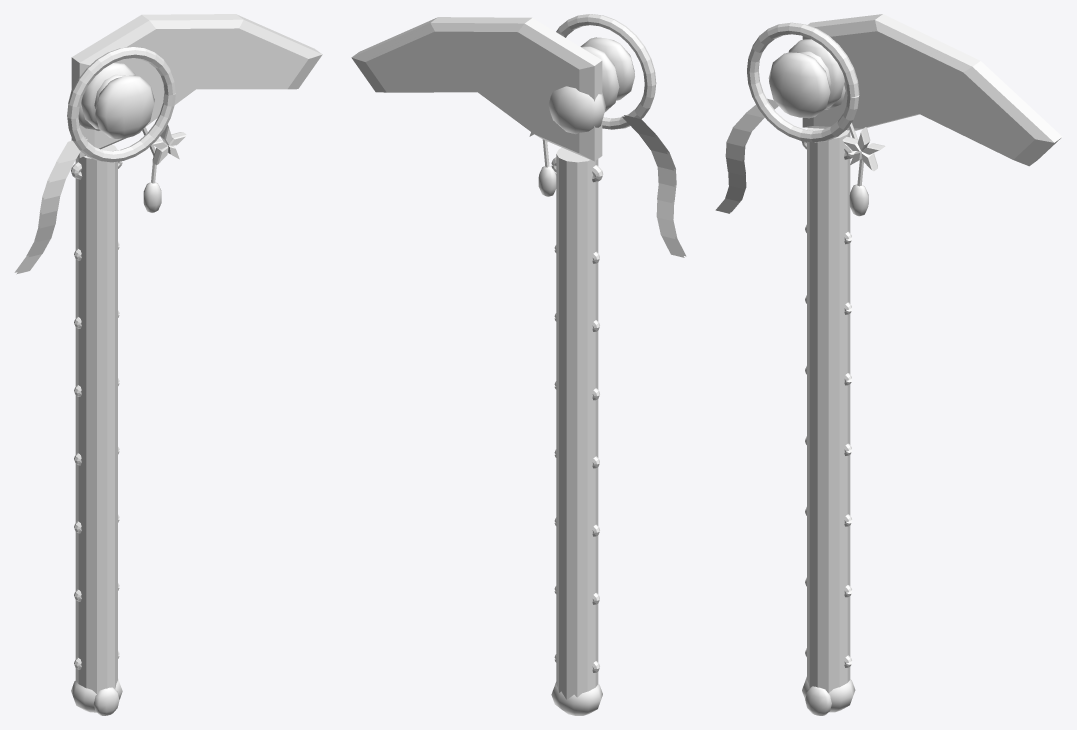
Rendered from hoe.obj.
3 views of the same model, side by side, from view 1: azimuth 30°, elevation 25°; view 2: azimuth 150°, elevation 25°; view 3: azimuth 330°, elevation 25° (orthographic). The views are drawn at different scales.
Size of the model in its own units: 0.4344 by 0.8917 by 0.1122.
